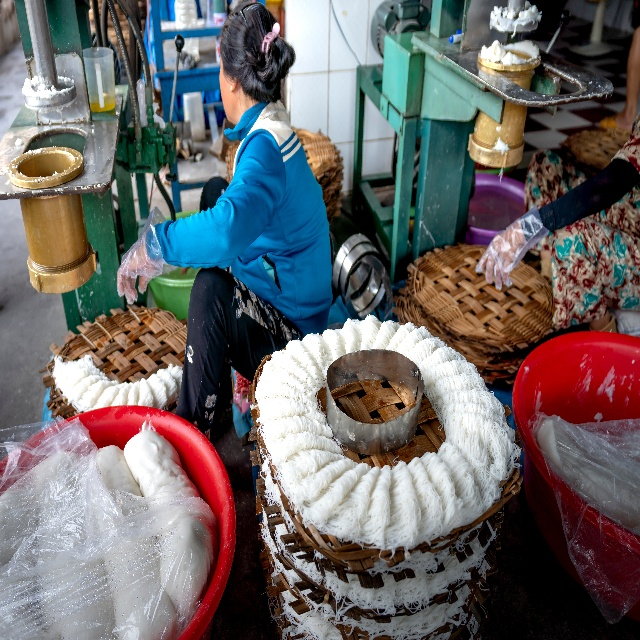Guantes: (475, 204, 549, 291), (116, 206, 168, 305)
Sin_guantes: (479, 219, 526, 289), (116, 241, 156, 303)
